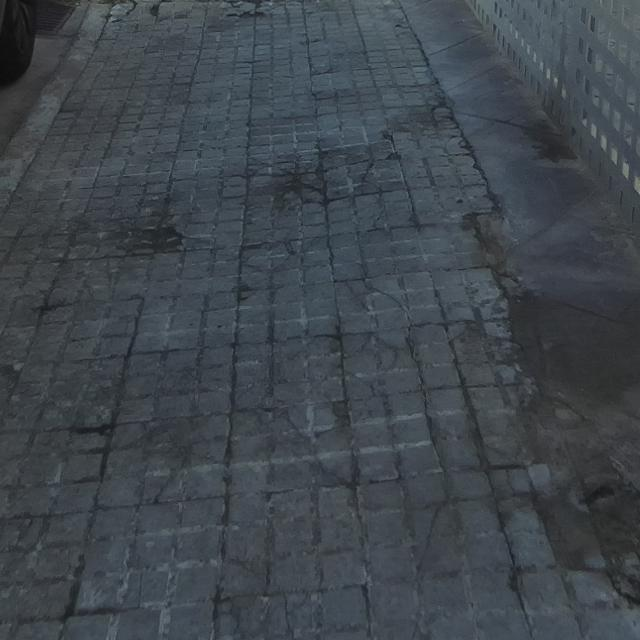calcada_quebrada: (367, 582, 533, 640), (127, 414, 228, 505), (244, 410, 359, 487), (396, 327, 459, 467), (268, 337, 390, 401), (403, 470, 469, 580), (213, 591, 325, 640), (239, 238, 328, 283), (348, 275, 418, 325), (348, 158, 383, 198), (367, 200, 394, 236)
